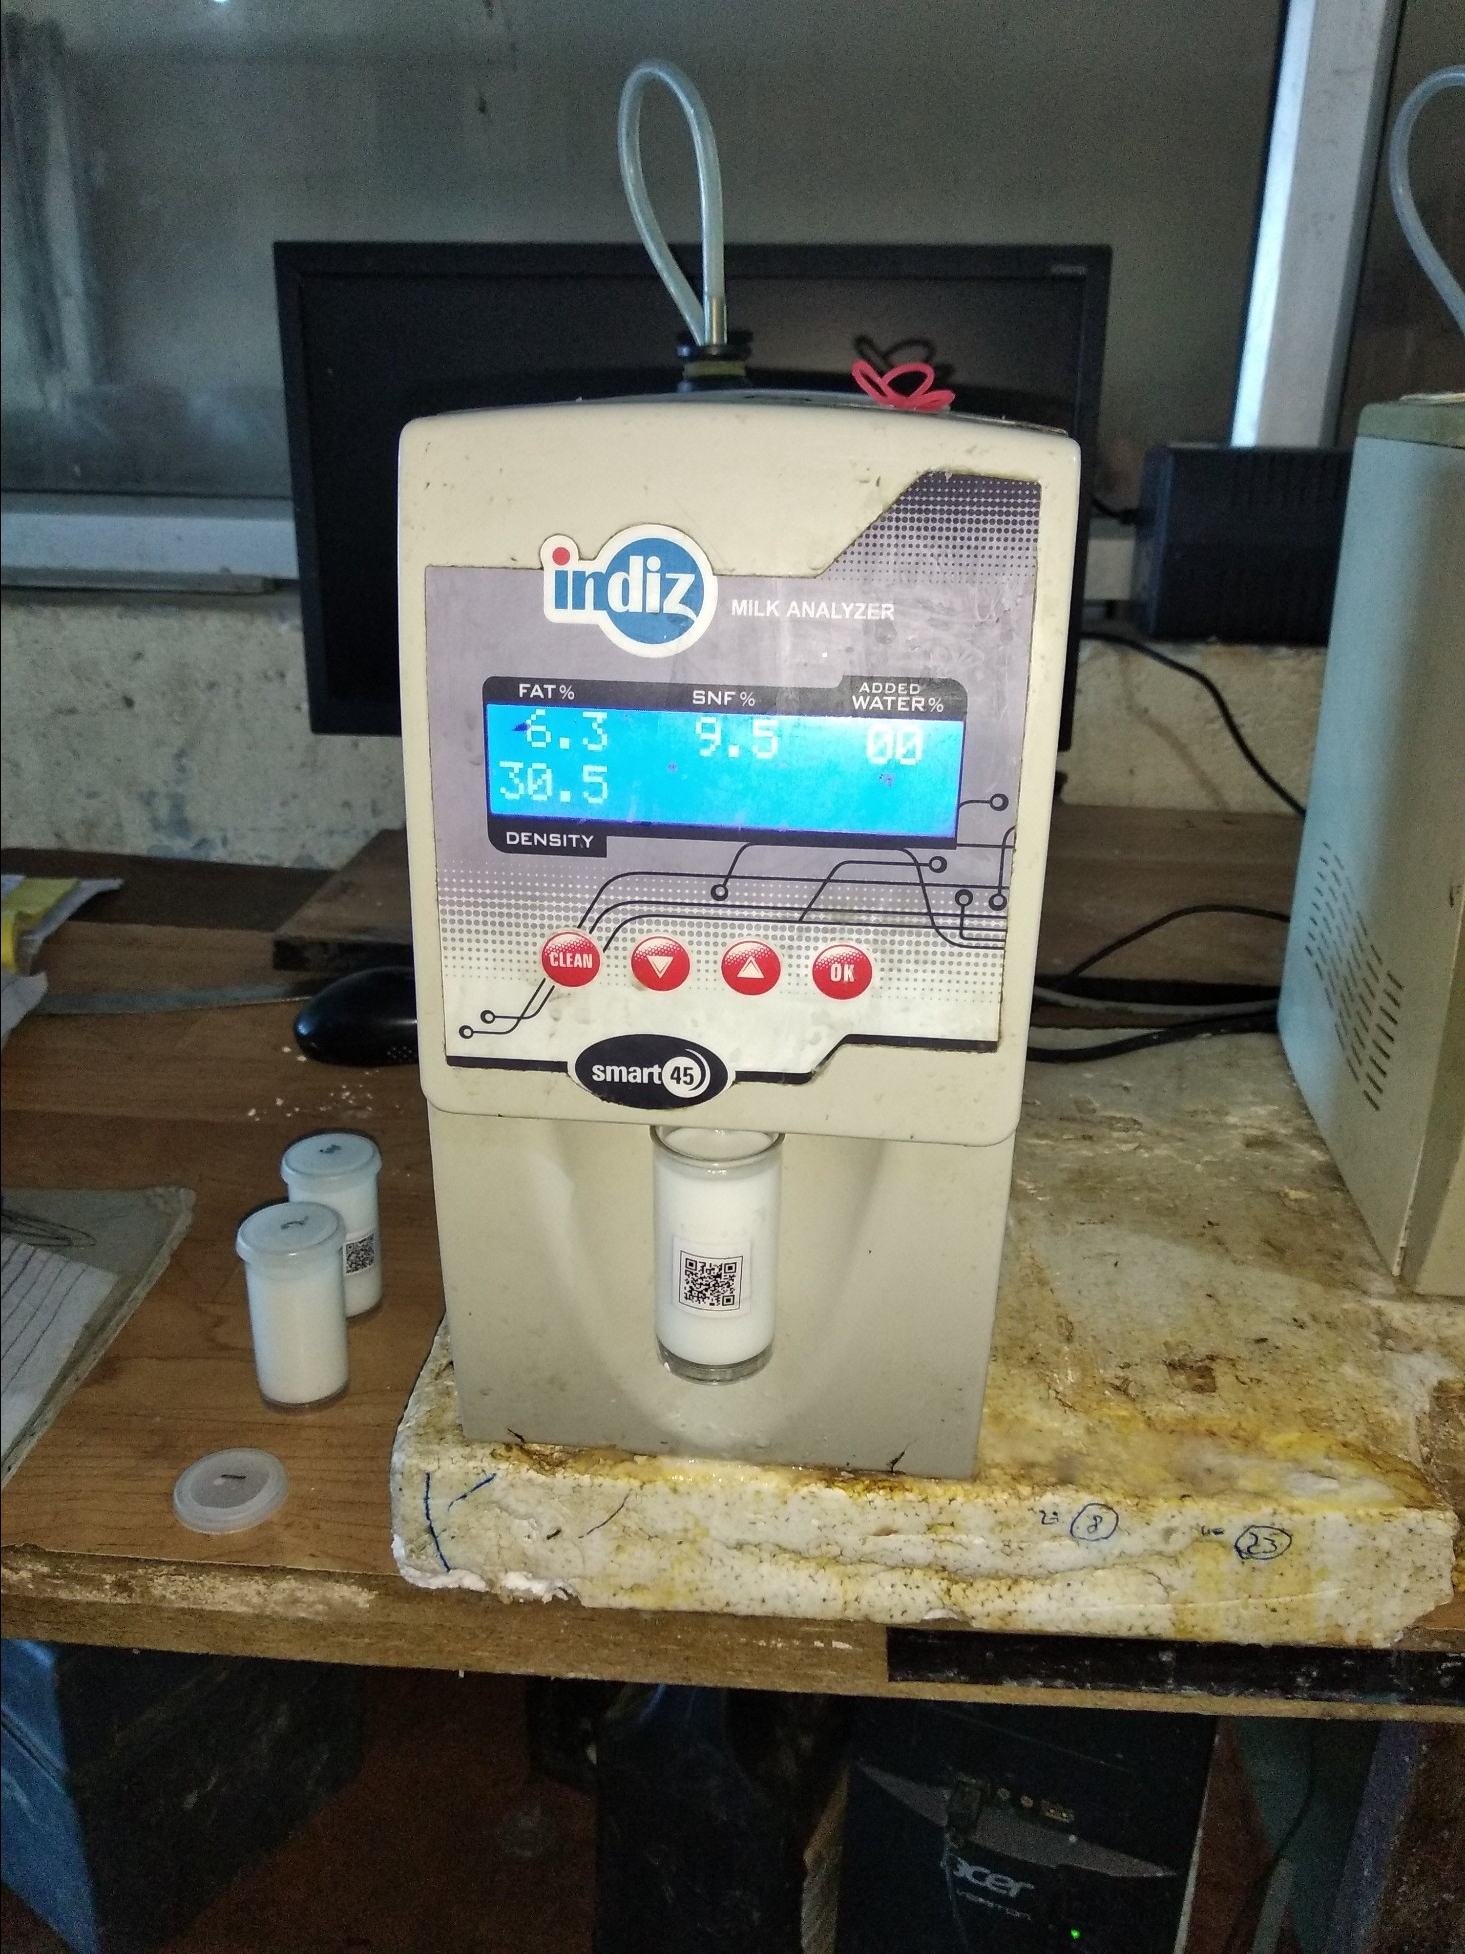lcd: (476, 685, 976, 859)
qr: (666, 1240, 754, 1315)
